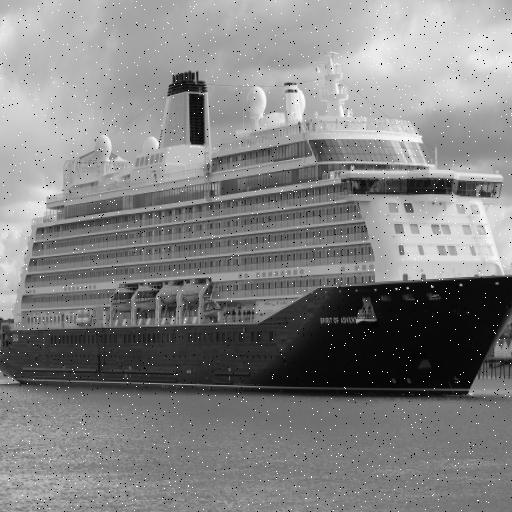cruises: (1, 42, 512, 409)
